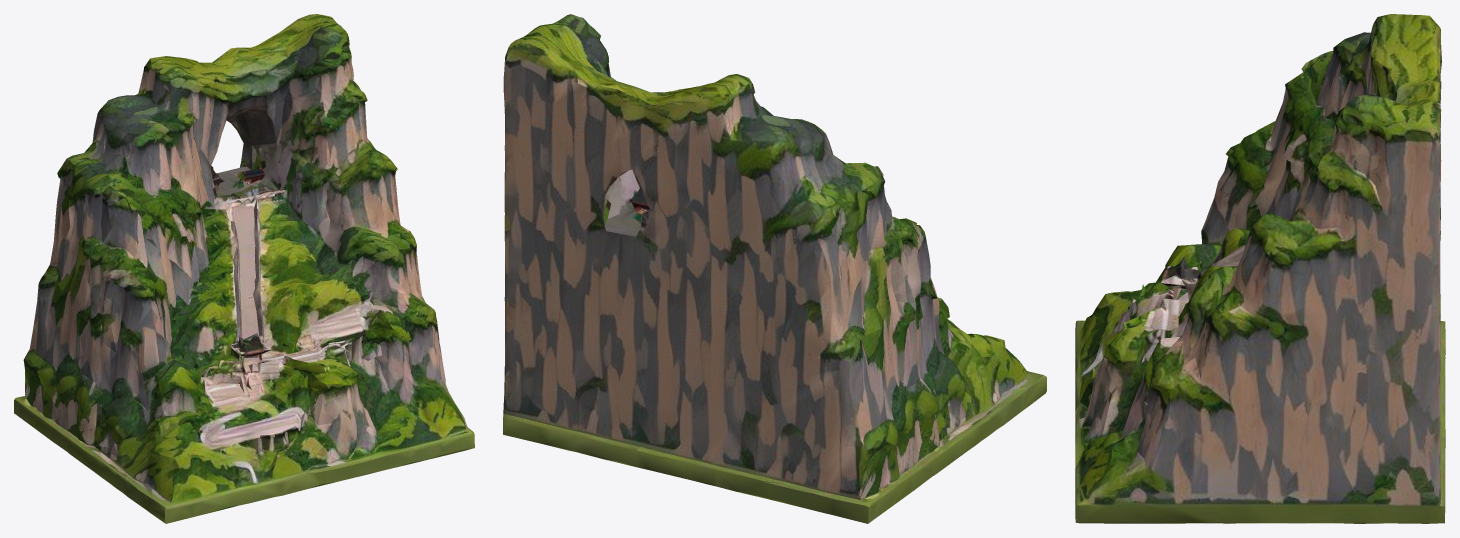
The model's file is tianmen-mountain.glb.
3 renders of one model, left to right at view 1: azimuth 30°, elevation 25°; view 2: azimuth 150°, elevation 25°; view 3: azimuth 270°, elevation 25°, orthographic. The views are drawn at different scales.
Parts seen in each view (by area): view 1: logan-textured.obj; view 2: logan-textured.obj; view 3: logan-textured.obj.
Part boxes in pixels (x1,y1,x2,y2): logan-textured.obj: (14,14,474,523); logan-textured.obj: (503,14,1046,523); logan-textured.obj: (1075,14,1445,523).
Bounding box in the file's own units: 0.9729 × 1 × 0.814.
1 material, 1 textured.
